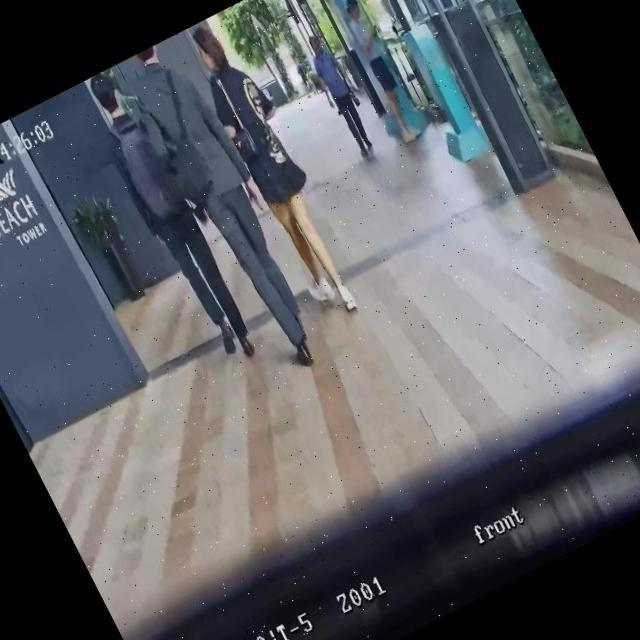person: (112, 32, 340, 384), (178, 13, 372, 326), (74, 62, 268, 374), (333, 0, 432, 146), (298, 28, 384, 162)
